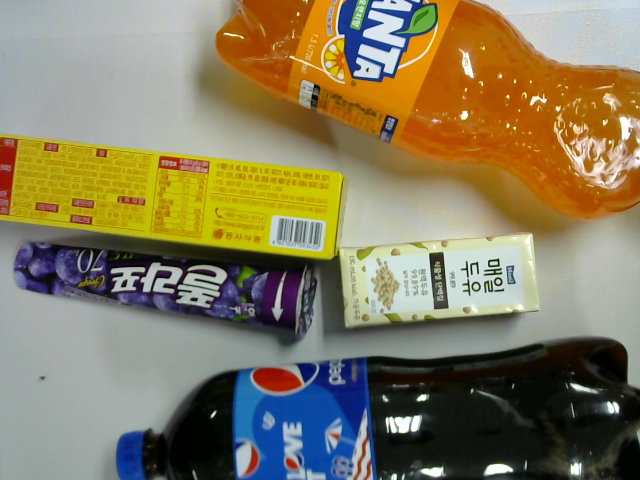99.89_Soymilk: (330, 230, 547, 331)
Hwanta_Orange_1.5L: (210, 1, 640, 220)
Pepsi_Cola_1.5L: (108, 331, 640, 478)
Polapo_Grape: (5, 235, 326, 342)
Ritz_Remon_96g: (1, 128, 353, 265)
